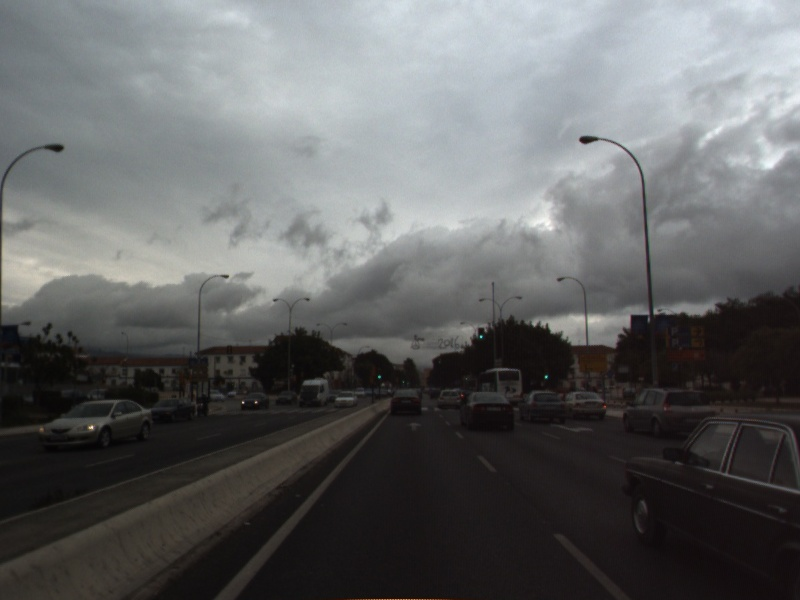STRAIGHT: (404, 420, 424, 434)
STRAIGHT_RIGHT: (548, 420, 596, 435)
